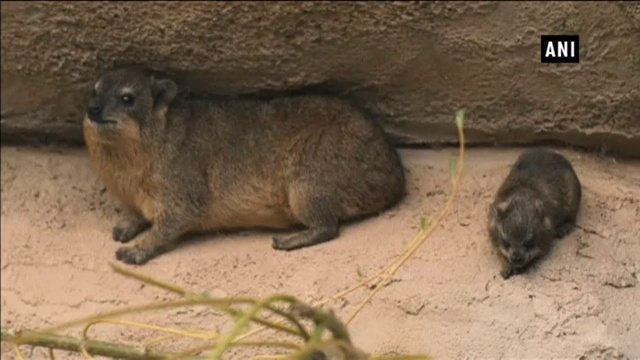Rock Hyrex: (77, 67, 407, 264), (486, 148, 582, 281)
